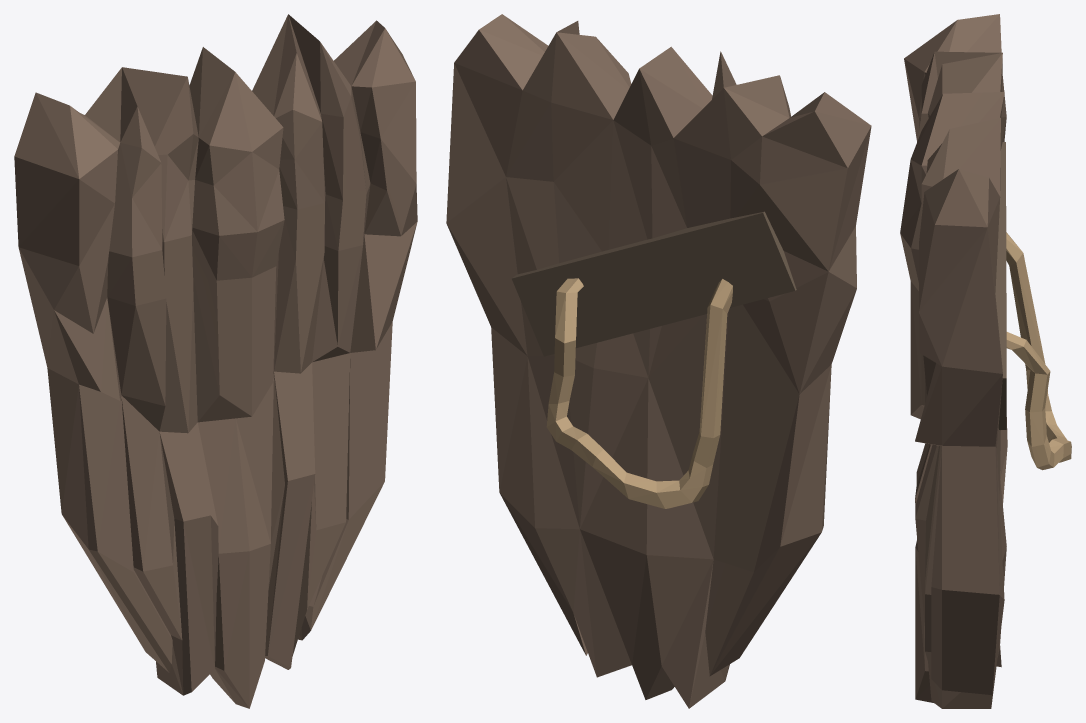
The model's file is _Shield_2.fbx.
3 views of the same model, side by side, from view 1: azimuth 30°, elevation 25°; view 2: azimuth 150°, elevation 25°; view 3: azimuth 270°, elevation 25° (orthographic). The views are drawn at different scales.
Visible parts, largest first — view 1: Shield_2; view 2: Shield_2; view 3: Shield_2.
Boxes of the visible parts, box(x1,y1,x2,y2) form: Shield_2: box(14, 14, 417, 708); Shield_2: box(446, 14, 871, 708); Shield_2: box(900, 14, 1071, 708).
Bounding box in the file's own units: 63.95 × 102 × 25.41.
